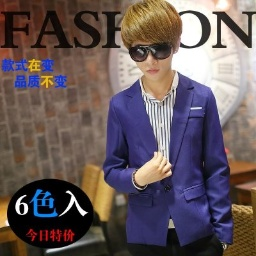face: (120, 1, 184, 83)
